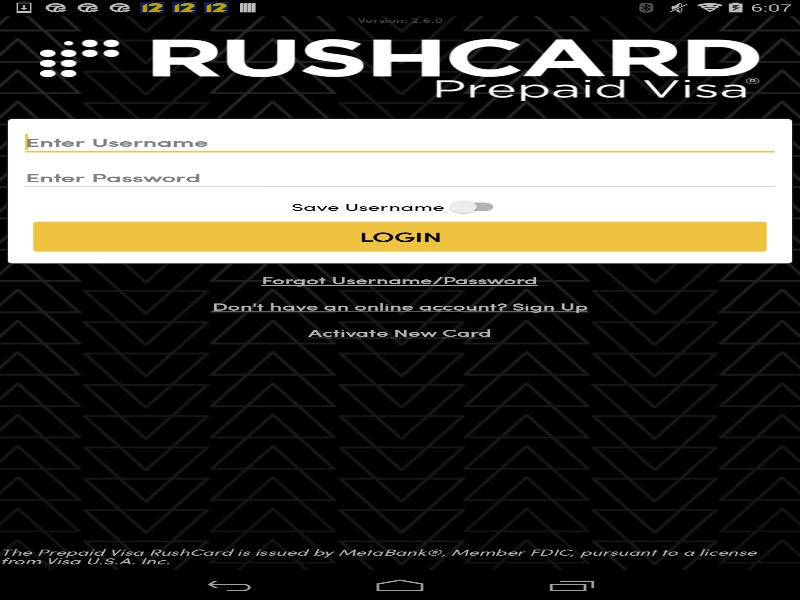Button: (33, 221, 766, 251)
Input: (20, 127, 780, 156), (20, 163, 780, 192)
